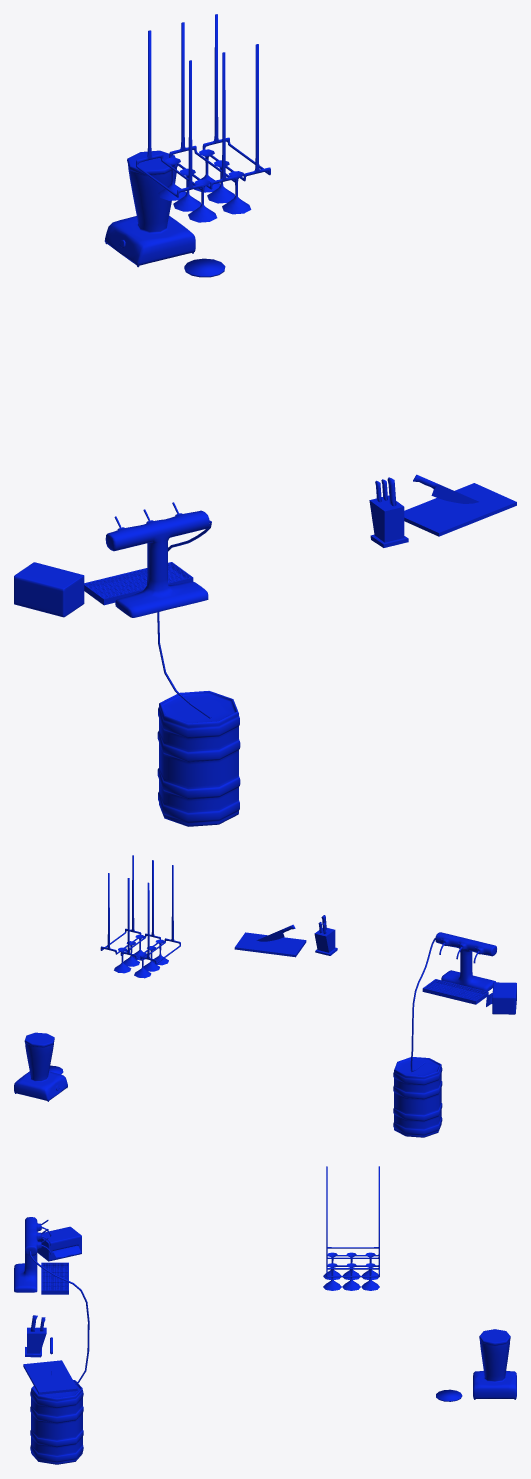
Rendered from Bar Smalls.fbx.
The picture shows the model from 3 angles, top to bottom: view 1: azimuth 30°, elevation 25°; view 2: azimuth 150°, elevation 25°; view 3: azimuth 270°, elevation 25°; orthographic projection. The views are drawn at different scales.
Visible parts, largest first — view 1: Beer Keg, Blender, Beer tap.003, Roof Rack, Tissue Box, CuttingBoard, Beer waste, Knife Holder, Martini Glass.001, Martini Glass; view 2: Beer Keg, Blender, Beer tap.003, Roof Rack, CuttingBoard, Beer waste, Tissue Box, Martini Glass.001, Knife Holder, Martini Glass, BézierCurve; view 3: Beer Keg, Blender, Beer tap.003, CuttingBoard, Tissue Box, Roof Rack, Beer waste, Martini Glass, Knife Holder, Martini Glass.001, BézierCurve.
Part boxes in pixels (x1,y1,x2,y2): Beer Keg: (157, 691, 240, 826); Blender: (104, 150, 195, 267); Beer tap.003: (105, 502, 209, 617); Roof Rack: (136, 14, 270, 197); Tissue Box: (14, 562, 84, 617); CuttingBoard: (404, 483, 516, 536); Beer waste: (84, 562, 193, 605); Knife Holder: (369, 495, 408, 547); Martini Glass.001: (158, 157, 217, 222); Martini Glass: (193, 149, 251, 214); Beer Keg: (393, 1057, 442, 1137); Blender: (14, 1032, 67, 1101); Beer tap.003: (435, 932, 496, 991); Roof Rack: (100, 855, 180, 964); CuttingBoard: (234, 932, 306, 957); Beer waste: (422, 979, 488, 1004); Tissue Box: (486, 982, 516, 1014); Martini Glass.001: (134, 939, 168, 978); Knife Holder: (314, 927, 337, 955); Martini Glass: (114, 934, 146, 973); BézierCurve: (410, 938, 435, 1072); Beer Keg: (30, 1380, 83, 1464); Blender: (473, 1329, 516, 1399); Beer tap.003: (14, 1217, 51, 1292); CuttingBoard: (23, 1360, 77, 1394); Tissue Box: (37, 1226, 81, 1261); Roof Rack: (326, 1166, 379, 1277); Beer waste: (41, 1262, 68, 1294); Martini Glass: (323, 1263, 379, 1290); Knife Holder: (25, 1327, 46, 1357); Martini Glass.001: (323, 1252, 378, 1279); BézierCurve: (29, 1251, 89, 1384).
Bounding box in the file's own units: 245 × 330 × 254.
